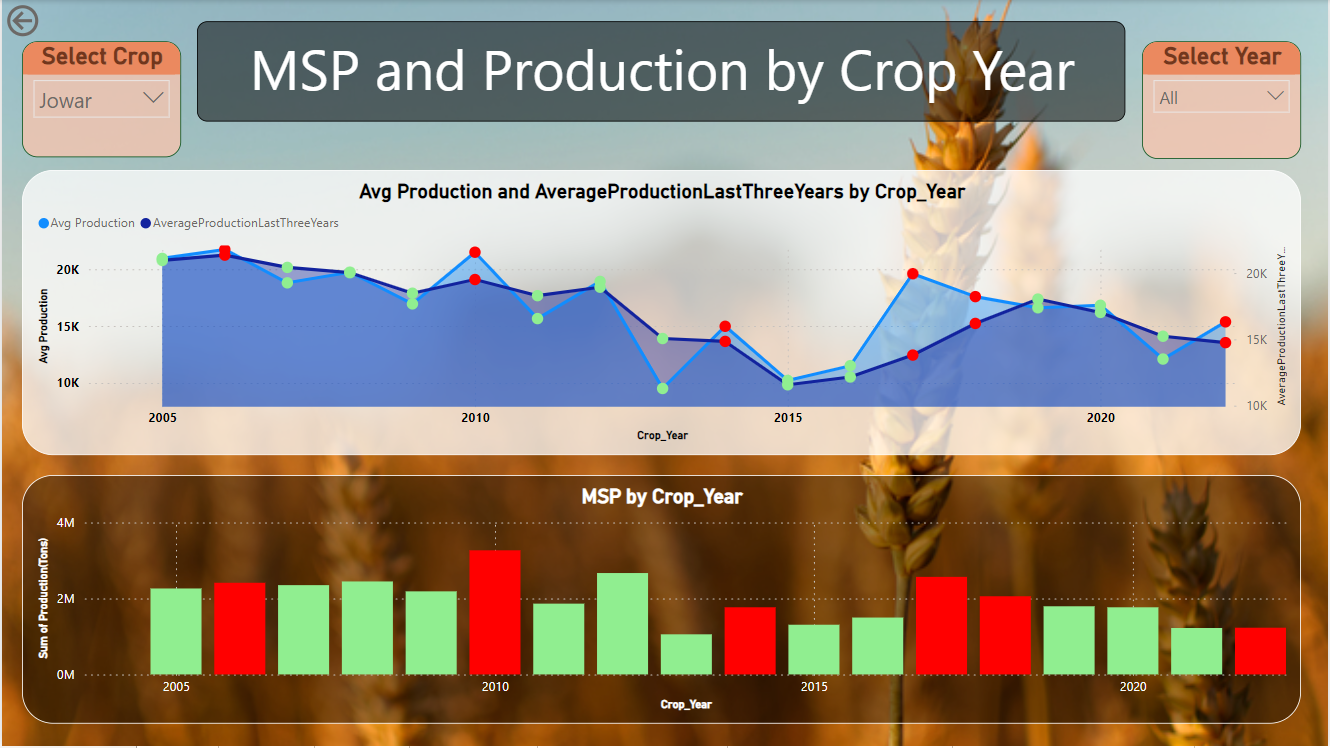

The page's visual inventory and layout, read from the dashboard file:
{"tool":"powerbi","page":{"name":"MSP and Production","canvas":[1280,720],"ordinal":3},"visuals":[{"type":"textbox","box":[188.2,20.5,896.4,96.5],"z":0},{"type":"slicer","title":"Select Crop","fields":{"Values":["apy_1.Crop"]},"box":[19.3,39.8,153.2,112.2],"z":1000},{"type":"slicer","title":"Select Year","fields":{"Values":["apy_1.Crop_Year"]},"box":[1100.3,39.8,153.2,113.4],"z":2000},{"type":"columnChart","title":"MSP by Crop_Year","fields":{"Category":["apy_1.Crop_Year"],"Y":["Sum(apy_1.Production(Tons))"]},"box":[19.3,458.4,1234.2,240.1],"z":3000},{"type":"actionButton","box":[0,0,100,40],"z":4000},{"type":"areaChart","fields":{"Category":["apy_1.Crop_Year"],"Y2":["apy_1.AverageProductionLastThreeYears"],"Y":["apy_1.Avg Production"]},"box":[19.3,164.1,1234.2,275.1],"z":5000}]}

Visuals, with their boxes in screenshot pixels (x1, y1, x2, y2), scaled from the page's 1280x720 canvas onto the 1330x748 screenshot:
textbox: [x1=196, y1=21, x2=1127, y2=122]
"Select Crop" slicer: [x1=20, y1=41, x2=179, y2=158]
"Select Year" slicer: [x1=1143, y1=41, x2=1302, y2=159]
"MSP by Crop_Year" columnChart: [x1=20, y1=476, x2=1302, y2=726]
actionButton: [x1=0, y1=0, x2=104, y2=42]
areaChart - apy_1.Crop_Year x apy_1.AverageProductionLastThreeYears: [x1=20, y1=170, x2=1302, y2=456]
